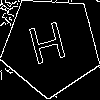H: (26, 21, 72, 74)
